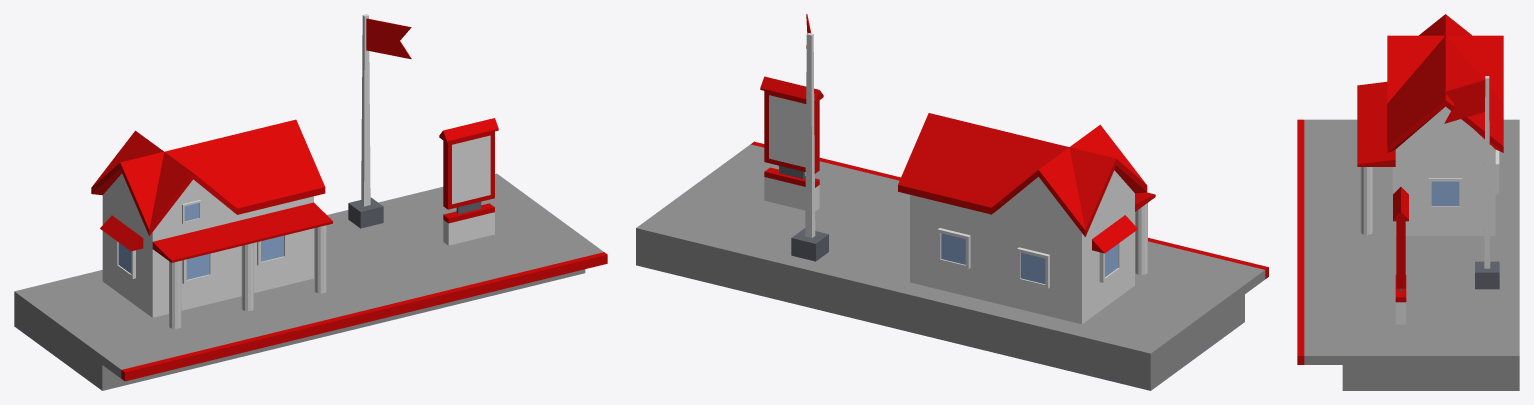
The model's file is Station.fbx.
3 views of the same model, side by side, from view 1: azimuth 30°, elevation 25°; view 2: azimuth 150°, elevation 25°; view 3: azimuth 270°, elevation 25° (orthographic). The views are drawn at different scales.
Parts seen in each view (by area): view 1: CountryTrainStation.001; view 2: CountryTrainStation.001; view 3: CountryTrainStation.001.
Part boxes in pixels (bbox=[...]): CountryTrainStation.001: bbox=[14, 14, 607, 390]; CountryTrainStation.001: bbox=[636, 14, 1268, 390]; CountryTrainStation.001: bbox=[1297, 14, 1519, 390].
Size of the model in its own units: 4.02 by 1.92 by 1.6.
